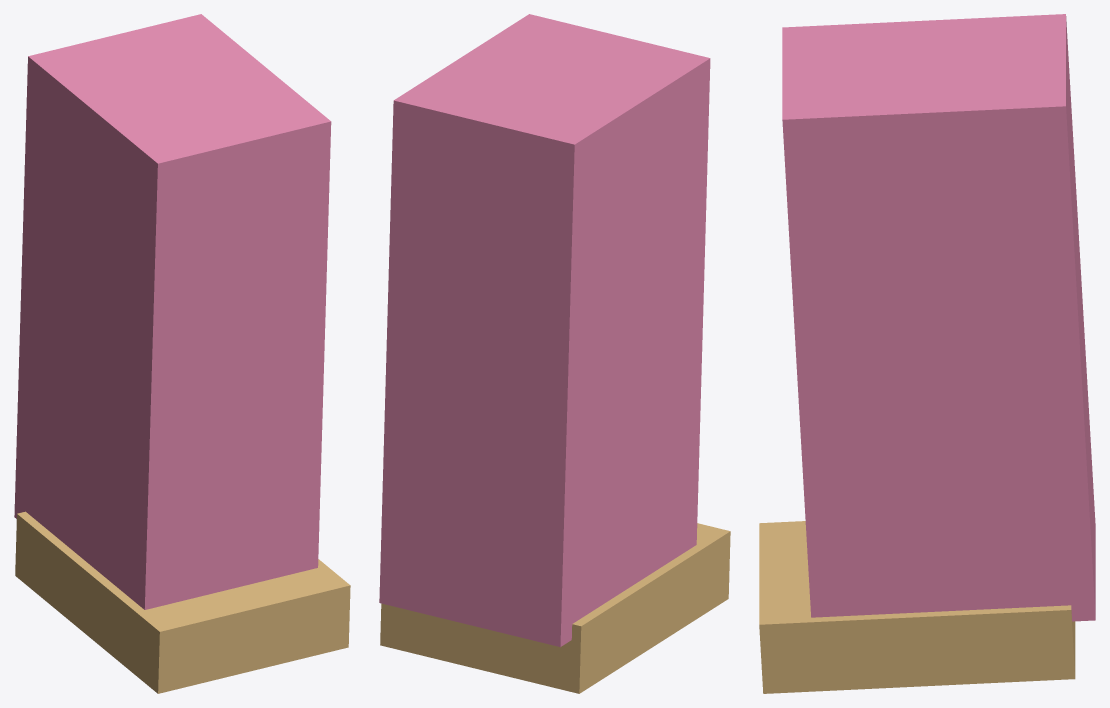
The model's file is LightMag.obj.
The picture shows the model from 3 angles, left to right: view 1: azimuth 30°, elevation 25°; view 2: azimuth 150°, elevation 25°; view 3: azimuth 270°, elevation 25°; orthographic projection. The views are drawn at different scales.
Parts seen in each view (by area): view 1: LightMag_Body, LightMag_Detail; view 2: LightMag_Body, LightMag_Detail; view 3: LightMag_Body, LightMag_Detail.
Boxes of the visible parts, bbox=[...] form: LightMag_Body: bbox=[14, 14, 331, 609]; LightMag_Detail: bbox=[15, 511, 350, 693]; LightMag_Body: bbox=[379, 14, 710, 646]; LightMag_Detail: bbox=[380, 523, 730, 693]; LightMag_Body: bbox=[782, 14, 1095, 621]; LightMag_Detail: bbox=[759, 521, 1075, 693].
Size of the model in its own units: 0.11 by 0.2944 by 0.154.
